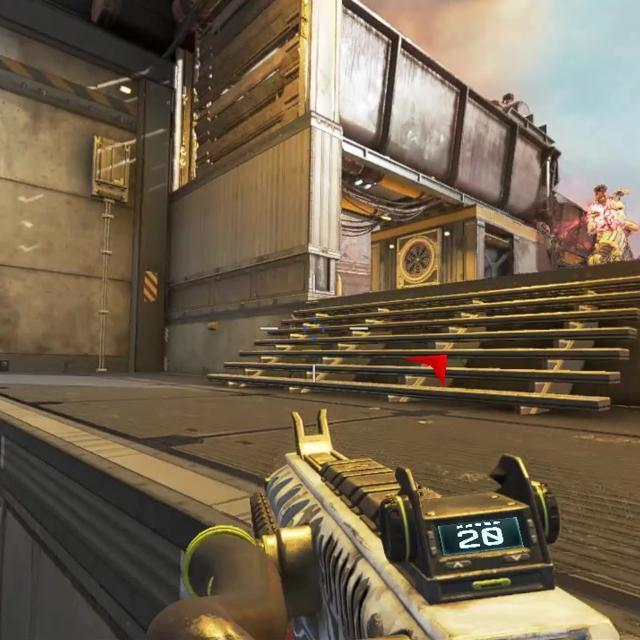avatar: (587, 184, 628, 263)
